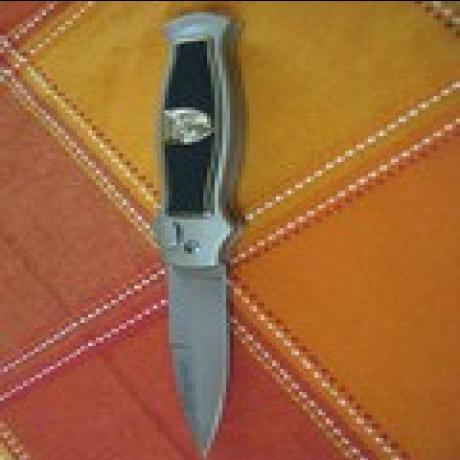weapon: (146, 0, 250, 456)
